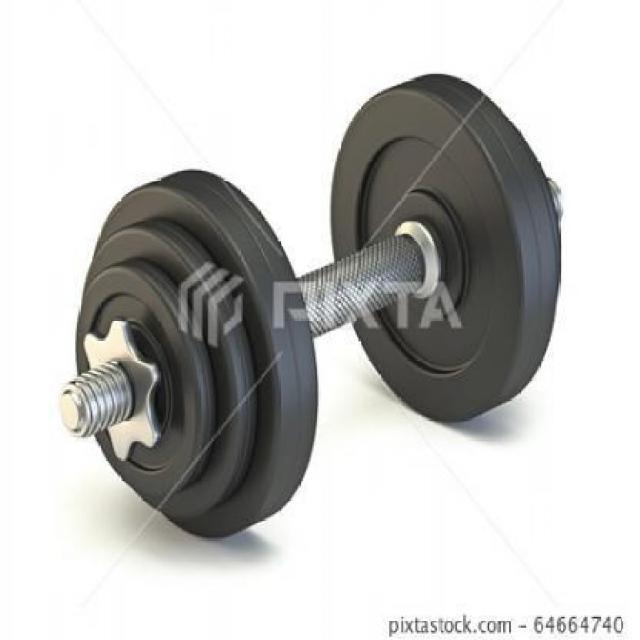Barbell: (57, 376, 97, 444)
